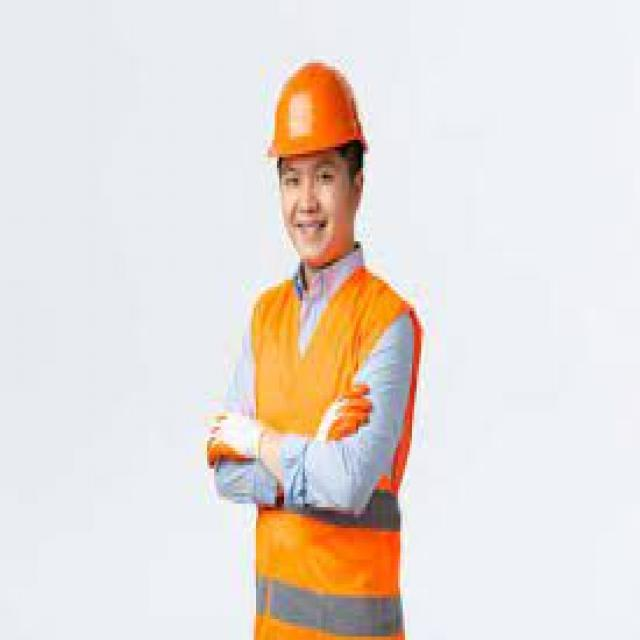reflective_jacket: (232, 266, 421, 633)
safety_helmet: (263, 52, 374, 167)
